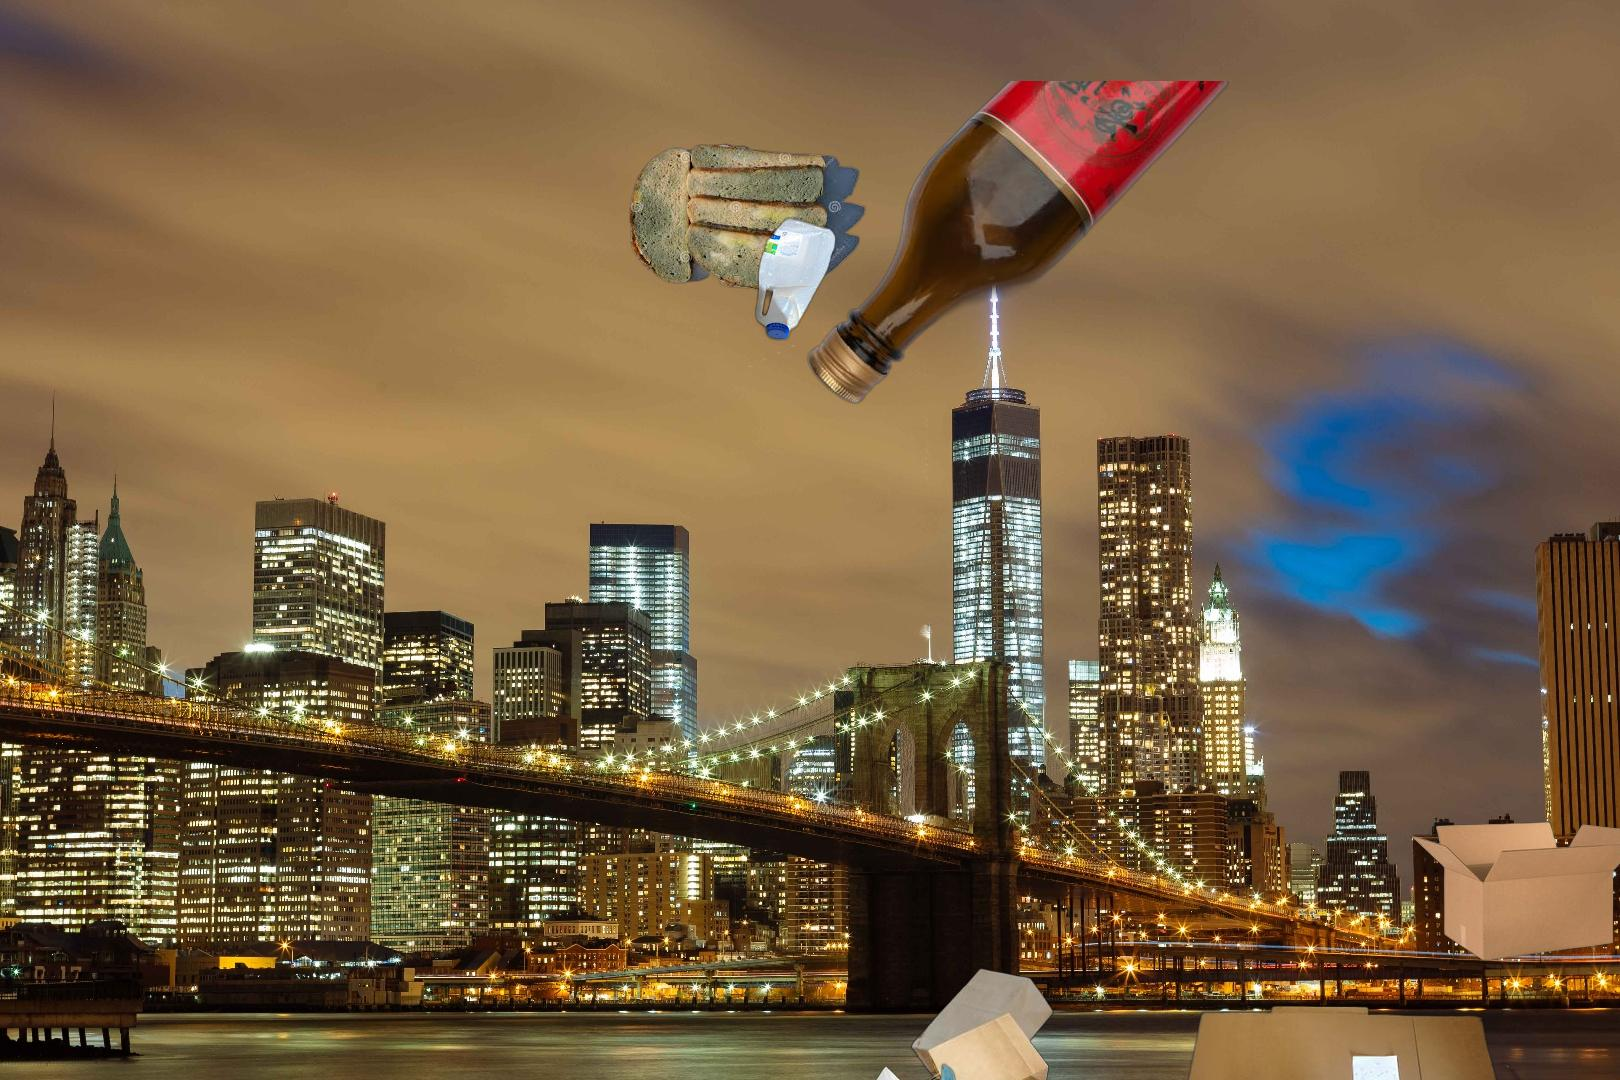biological: (627, 139, 868, 299)
glass: (803, 81, 1229, 405)
paper-bag: (908, 965, 1057, 1080)
plastic-bag: (808, 1062, 1000, 1080)
plastic-bottles: (517, 213, 840, 587)
trashbox-cardboard: (1409, 818, 1620, 963), (1181, 1003, 1501, 1080), (1471, 992, 1620, 1080)
